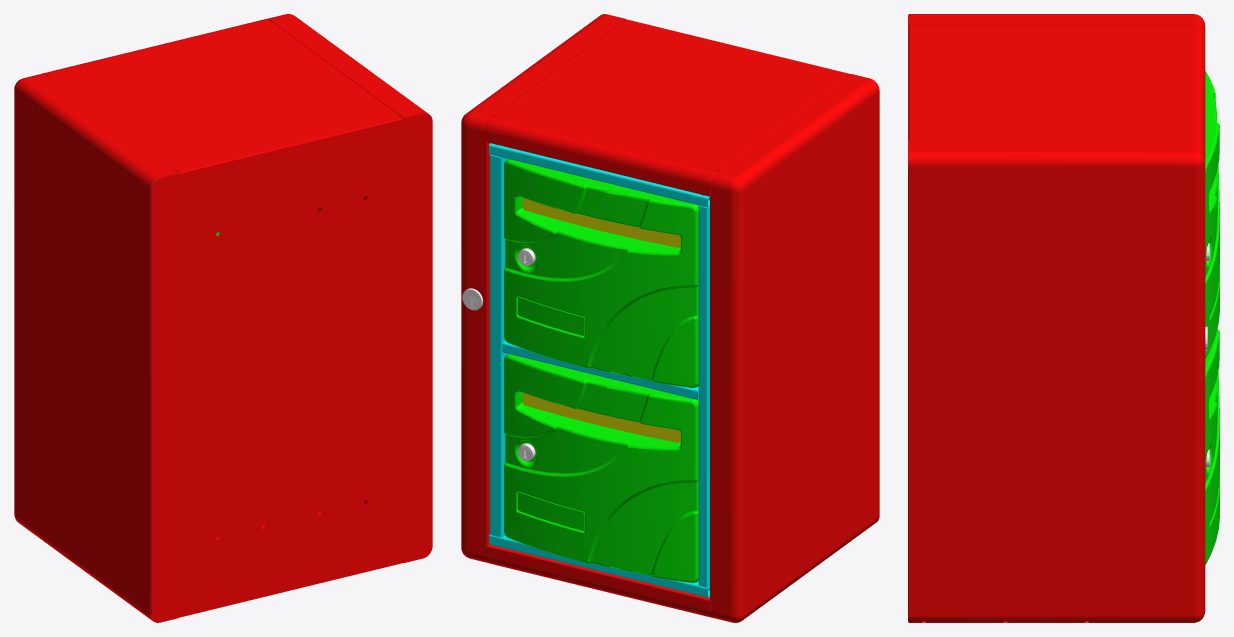
File: elite_A2.glb
3 renders of one model, left to right at view 1: azimuth 30°, elevation 25°; view 2: azimuth 150°, elevation 25°; view 3: azimuth 270°, elevation 25°, orthographic. The views are drawn at different scales.
Visible parts, largest first — view 1: TOLE FOND coffre arrondie A2, TOLE DROITE coffre arrondie 2, TOLE DESSUS coffre arrondie A, TOLE GAUCHE coffre arrondie 2_Défaut<Brut d''usinage>; view 2: TOLE DROITE coffre arrondie 2, TOLE DESSUS coffre arrondie A, facade portillon élite_node, facade portillon élite, TOLE GAUCHE coffre arrondie 2_Défaut<Brut d''usinage>, TOLE PLIEE CROCHET CADRE 2, TUBE COTEE CADRE 2_node, TOLE DESSUS coffre arrondie A_node, TUBE DESSUS CADRE A, volet élite, volet élite_node, TUBE DESSOUS CADRE A (+3 smaller); view 3: TOLE GAUCHE coffre arrondie 2_Défaut<Brut d''usinage>, TOLE DESSUS coffre arrondie A, facade portillon élite, TOLE DROITE coffre arrondie 2, facade portillon élite_node, TOLE FOND coffre arrondie A2.
Boxes of the visible parts, box(x1,y1,x2,y2) form: TOLE FOND coffre arrondie A2: box(151, 114, 432, 622); TOLE DROITE coffre arrondie 2: box(14, 73, 178, 622); TOLE DESSUS coffre arrondie A: box(42, 19, 402, 173); TOLE GAUCHE coffre arrondie 2_Défaut<Brut d''usinage>: box(267, 14, 432, 562); TOLE DROITE coffre arrondie 2: box(710, 74, 879, 622); TOLE DESSUS coffre arrondie A: box(486, 19, 849, 196); facade portillon élite_node: box(504, 354, 698, 582); facade portillon élite: box(504, 159, 698, 387); TOLE GAUCHE coffre arrondie 2_Défaut<Brut d''usinage>: box(461, 14, 625, 562); TOLE PLIEE CROCHET CADRE 2: box(489, 143, 507, 544); TUBE COTEE CADRE 2_node: box(698, 205, 709, 587); TOLE DESSUS coffre arrondie A_node: box(486, 544, 712, 617); TUBE DESSUS CADRE A: box(490, 143, 709, 207); volet élite: box(523, 197, 680, 247); volet élite_node: box(523, 392, 680, 442); TUBE DESSOUS CADRE A: box(490, 535, 709, 597); TOLE GAUCHE coffre arrondie 2_Défaut<Brut d''usinage>: box(908, 141, 1205, 622); TOLE DESSUS coffre arrondie A: box(908, 25, 1205, 150); facade portillon élite: box(1205, 71, 1219, 357); TOLE DROITE coffre arrondie 2: box(908, 14, 1205, 33); facade portillon élite_node: box(1205, 329, 1219, 564); TOLE FOND coffre arrondie A2: box(908, 15, 908, 621).
Size of the model in its own units: 424 by 638 by 383.
